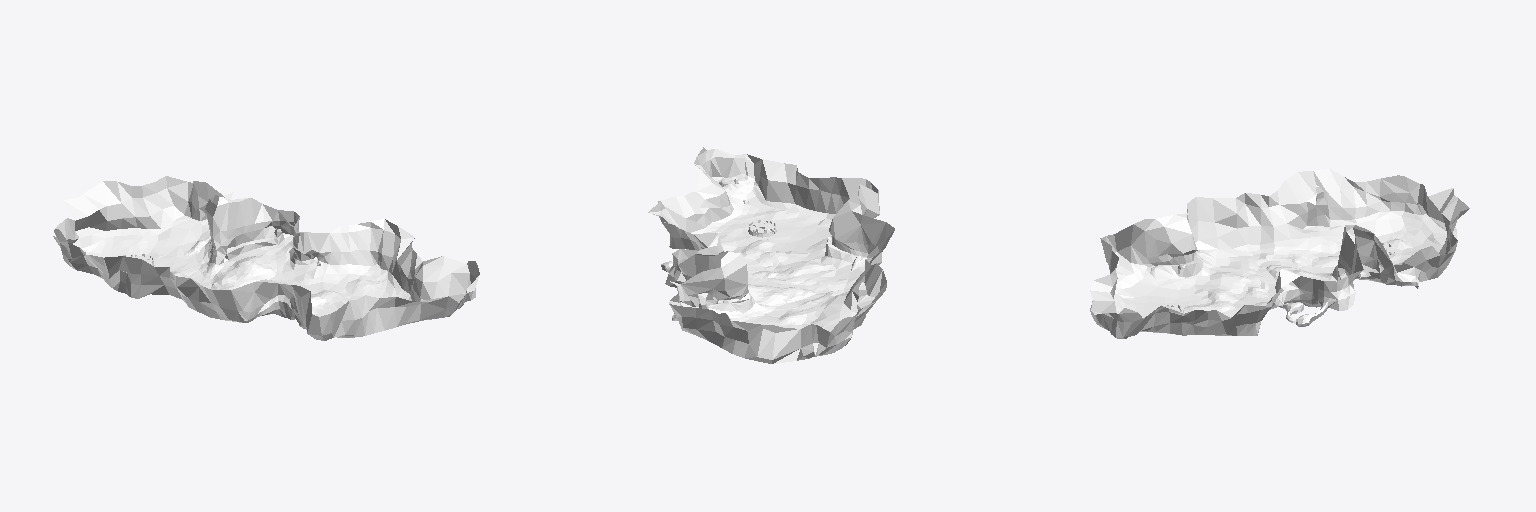
The model's file is bloodgulch.obj.
The picture shows the model from 3 angles: view 1: azimuth 30°, elevation 25°; view 2: azimuth 150°, elevation 25°; view 3: azimuth 270°, elevation 25°; orthographic projection.
Visible parts, largest first — view 1: -000, -001; view 2: -000, -001; view 3: -000, -001, -004, -003.
Boxes of the visible parts, x1=… form: -000: x1=53, y1=176, x2=479, y2=340; -001: x1=73, y1=218, x2=478, y2=337; -000: x1=661, y1=149, x2=894, y2=363; -001: x1=648, y1=147, x2=866, y2=356; -000: x1=1090, y1=168, x2=1469, y2=337; -001: x1=1097, y1=214, x2=1446, y2=338; -004: x1=1310, y1=276, x2=1353, y2=310; -003: x1=1283, y1=302, x2=1327, y2=326.
Bounding box in the file's own units: 320 × 67.52 × 369.